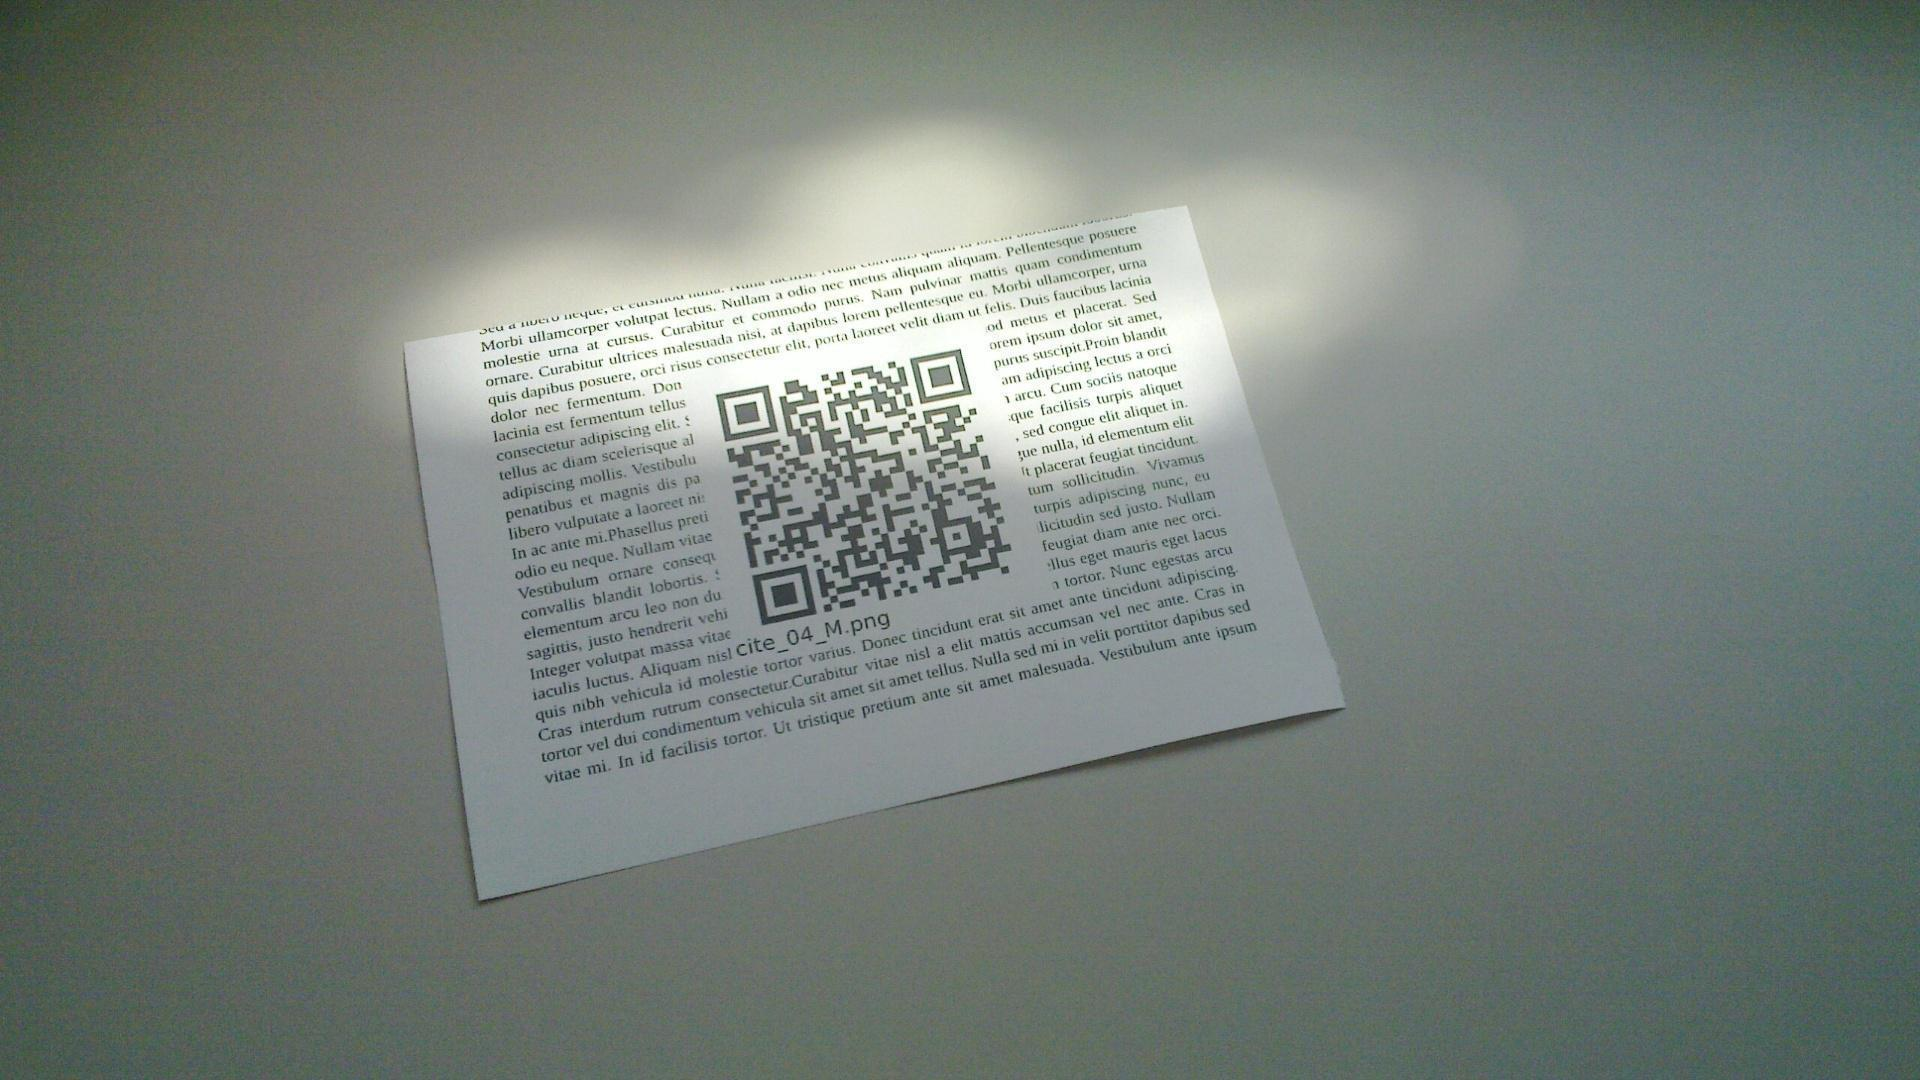qr_code: (716, 349, 1019, 626)
